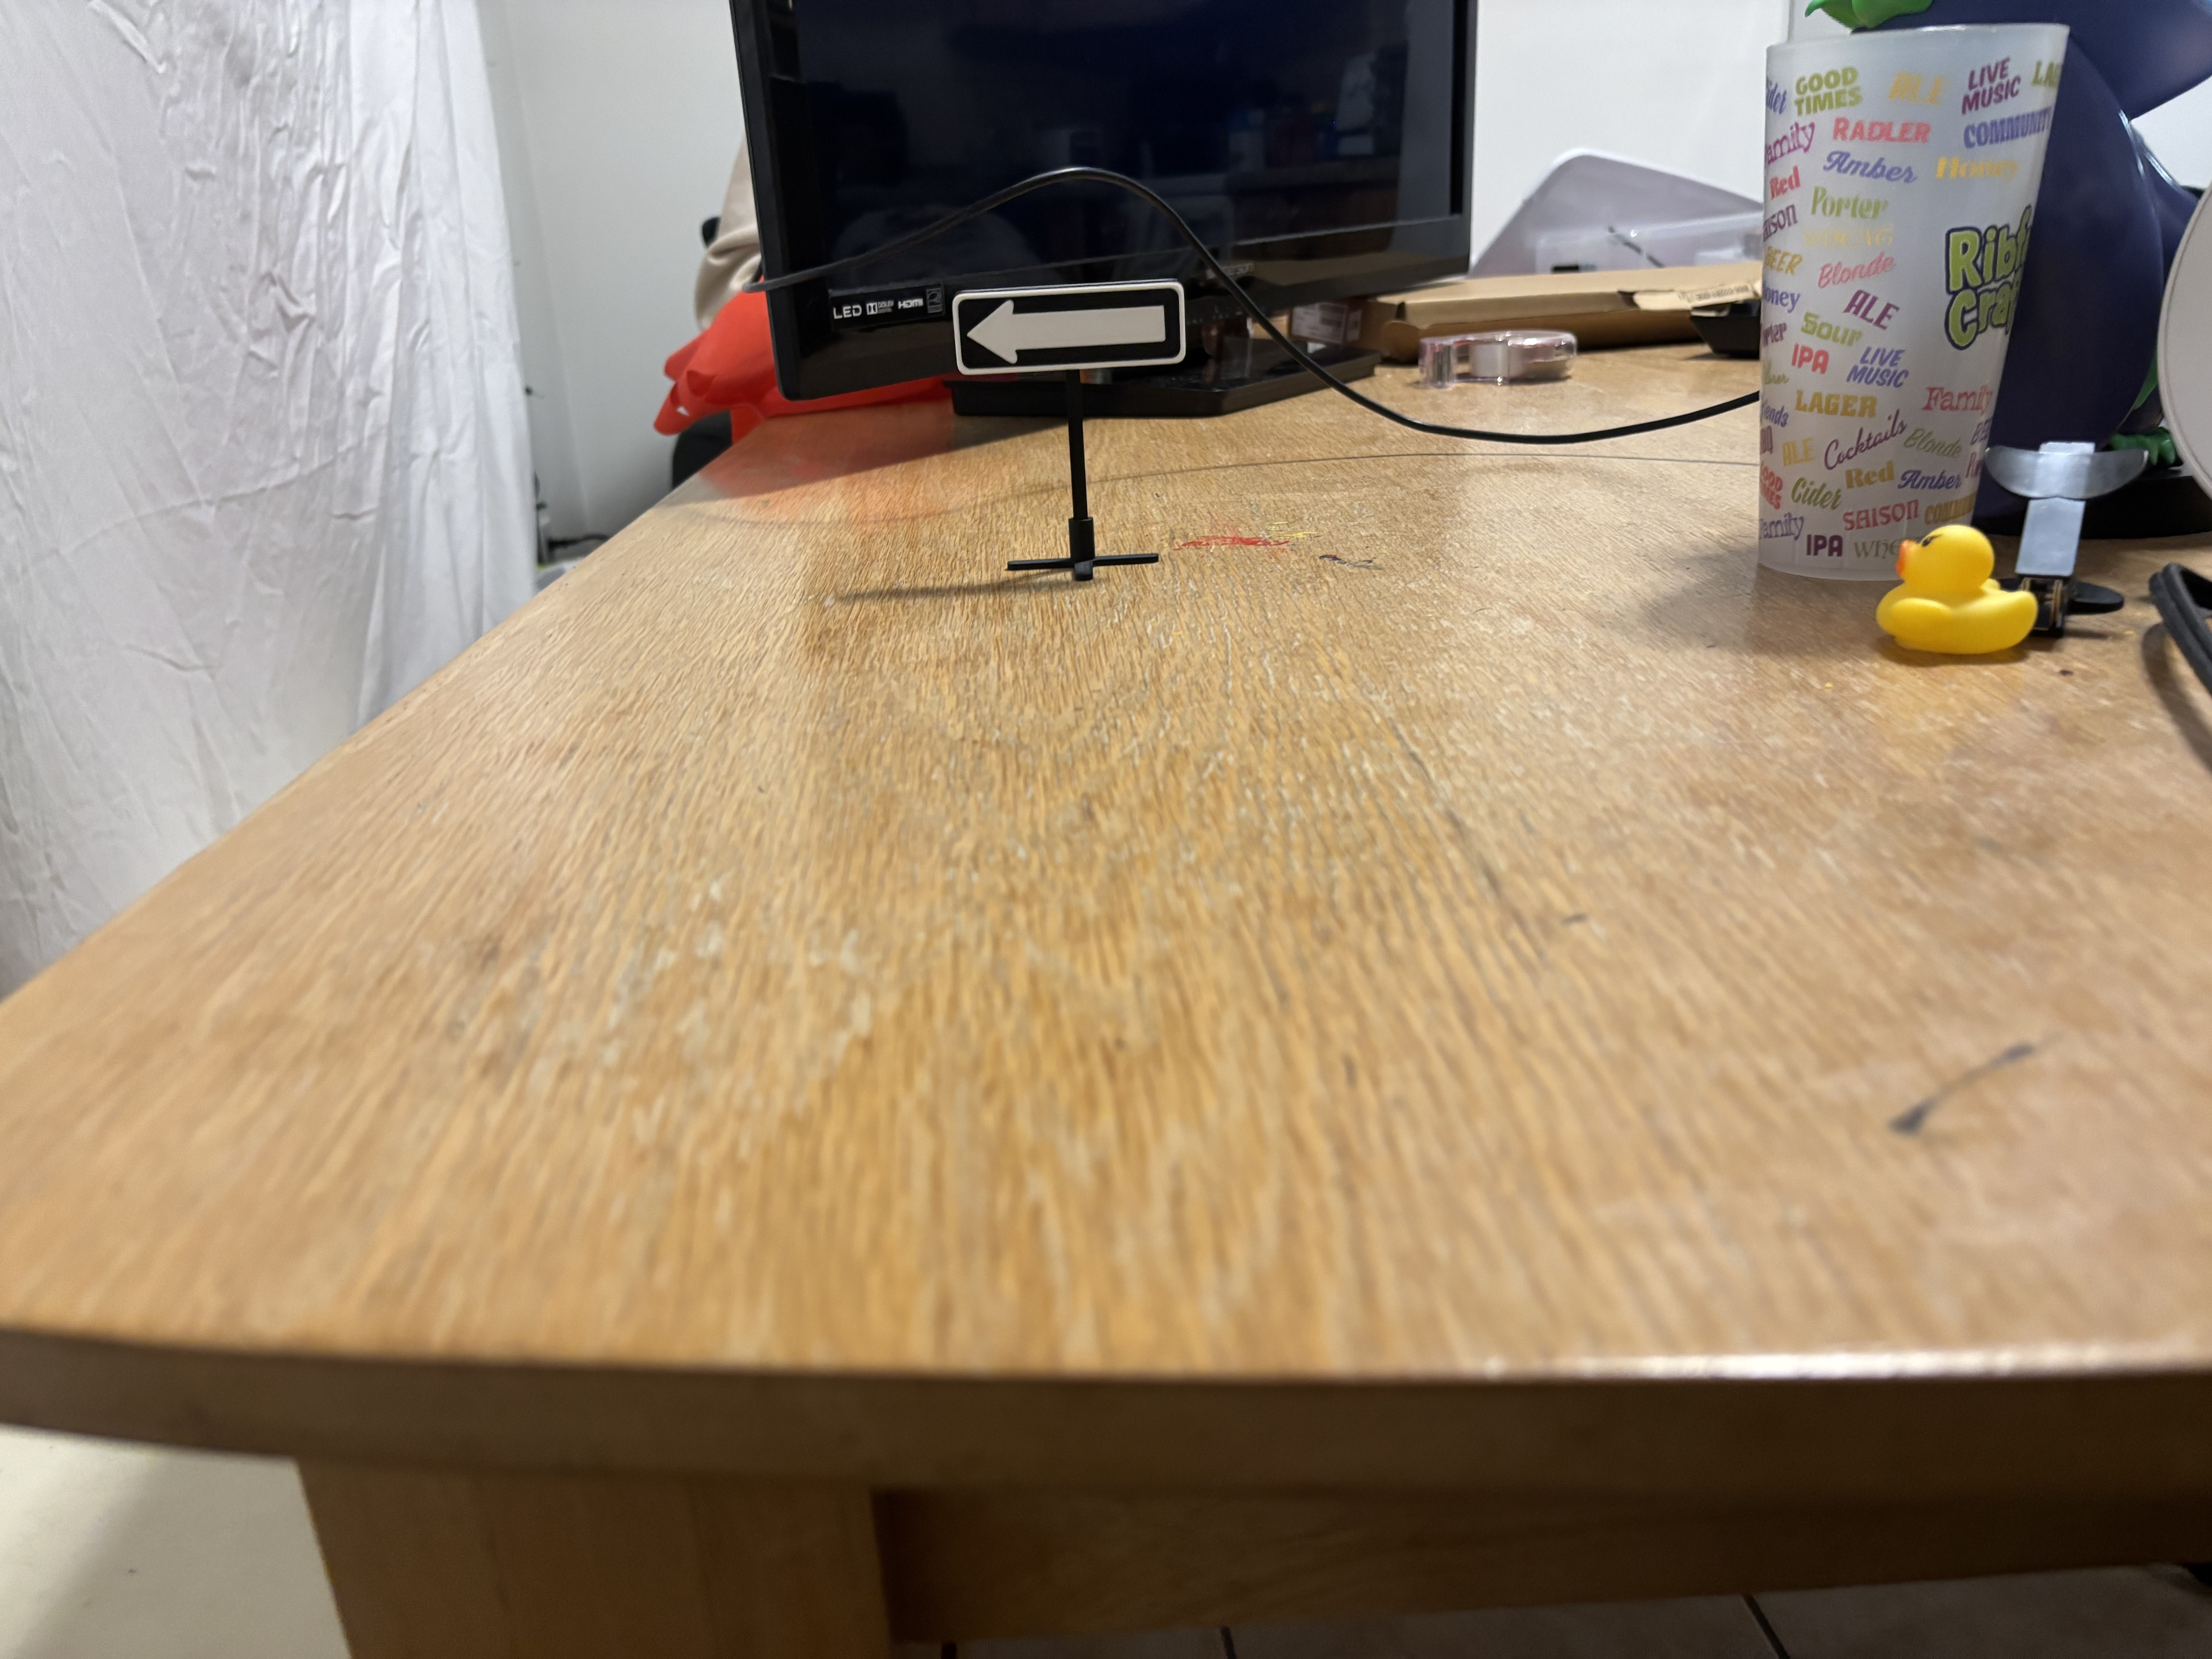sign_oneway_left: (949, 281, 1193, 375)
